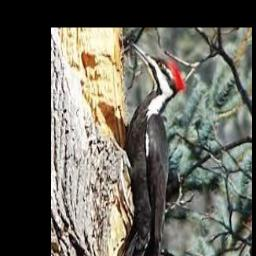Woodpecker: (109, 42, 185, 256)
